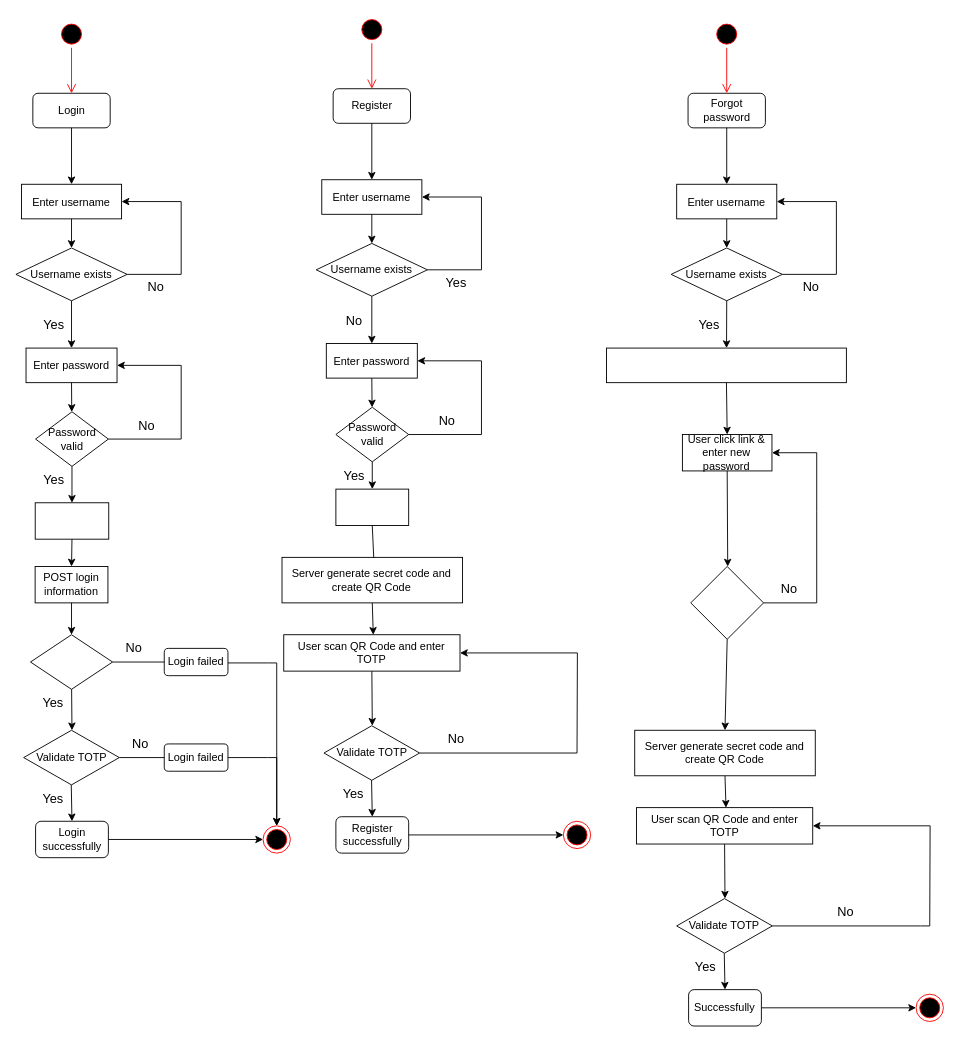
The diagram is 960 pixels wide and 1042 high, and some of its shapes have lost their labels. Each missing label, with the box of its shape:
Check password valid: (690, 566, 764, 639)
Enter TOTP: (34, 502, 109, 539)
POST register information: (335, 488, 409, 526)
Server send reset password form to user's email: (606, 347, 846, 383)
Validate password: (30, 634, 113, 689)
